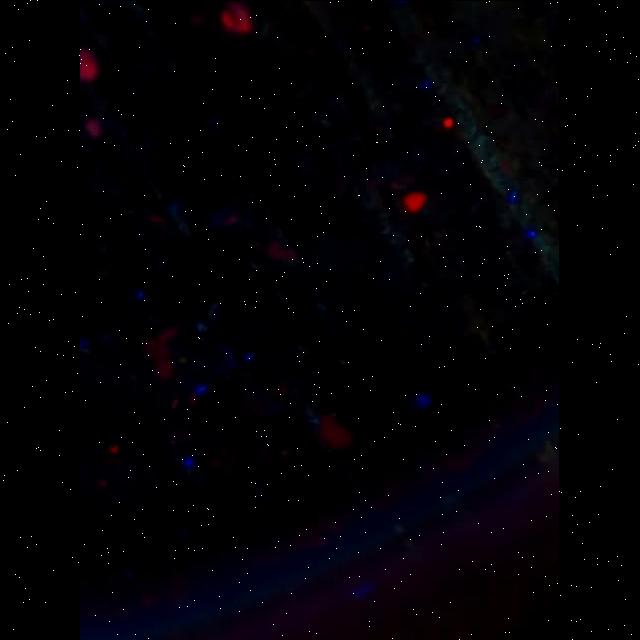Fragment: (222, 0, 254, 34)
